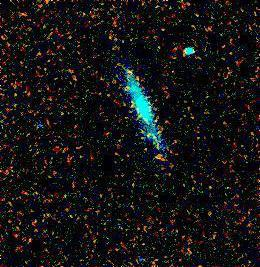star: (145, 147, 175, 177)
